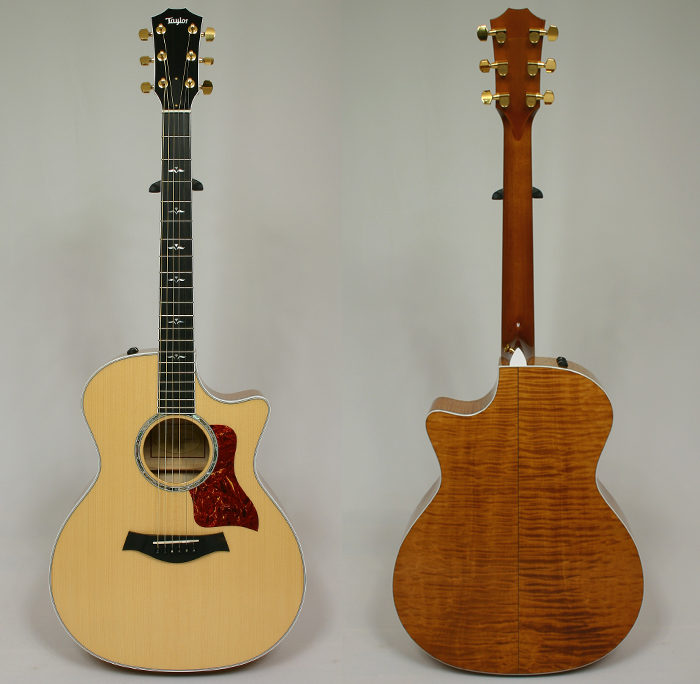guitar: (48, 7, 311, 676), (394, 7, 648, 675)
